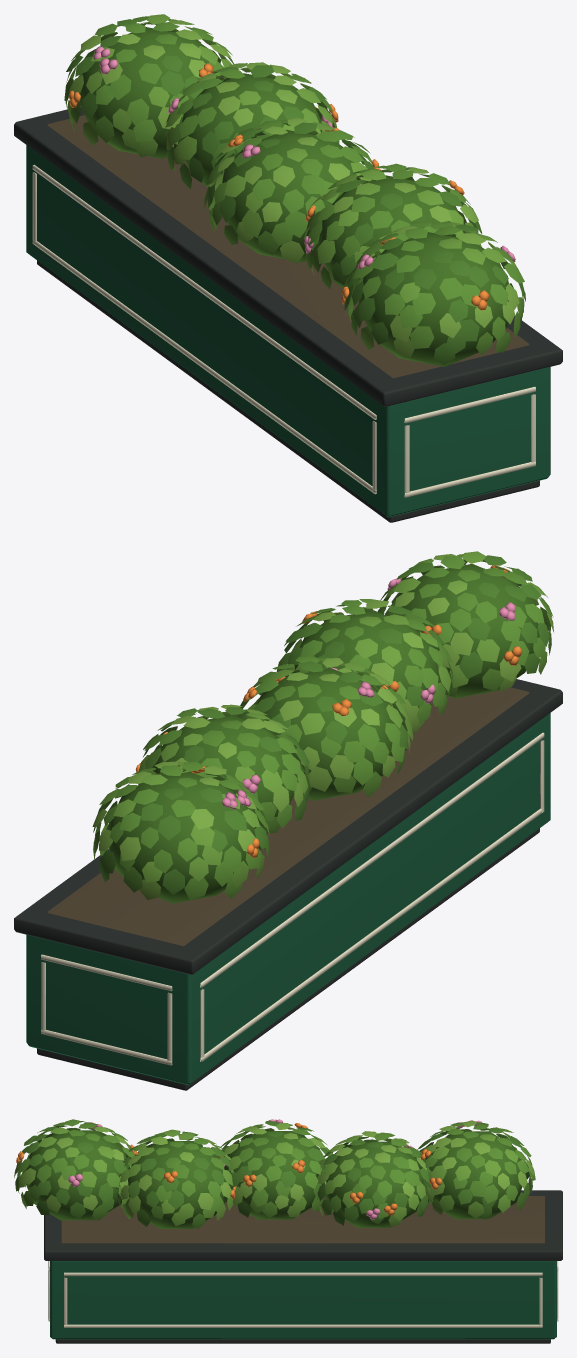
File: edge_planter.glb
3 renders of one model, top to bottom at view 1: azimuth 30°, elevation 25°; view 2: azimuth 150°, elevation 25°; view 3: azimuth 270°, elevation 25°, orthographic. The views are drawn at different scales.
Parts seen in each view (by area): view 1: PlanterBox, PlanterRim, PlanterSoil, Shrub4Core, Shrub2Core, Shrub0Core, Shrub1Core, Shrub3Core, PlanterFeet, PlanterInlayX-1T, PlanterInlayX-1B, PlanterInlayY-1T (+1 smaller); view 2: PlanterBox, PlanterRim, PlanterSoil, Shrub0Core, Shrub2Core, Shrub4Core, Shrub3Core, Shrub1Core, PlanterFeet, PlanterInlayX-1T, PlanterInlayX-1B, PlanterInlayY1T (+1 smaller); view 3: PlanterBox, PlanterSoil, PlanterRim, Shrub4Core, Shrub0Core, Shrub3Core, Shrub1Core, Shrub2Core, PlanterFeet, PlanterInlayX1T, PlanterInlayX1B.
Part boxes in pixels (x1=…): PlanterBox: x1=26, y1=145, x2=550, y2=517; PlanterRim: x1=14, y1=106, x2=562, y2=406; PlanterSoil: x1=47, y1=115, x2=529, y2=378; Shrub4Core: x1=358, y1=232, x2=508, y2=366; Shrub2Core: x1=221, y1=129, x2=367, y2=262; Shrub0Core: x1=80, y1=27, x2=224, y2=158; Shrub1Core: x1=178, y1=73, x2=322, y2=186; Shrub3Core: x1=318, y1=175, x2=466, y2=294; PlanterFeet: x1=37, y1=260, x2=539, y2=522; PlanterInlayX-1T: x1=32, y1=164, x2=376, y2=419; PlanterInlayX-1B: x1=32, y1=240, x2=376, y2=494; PlanterInlayY-1T: x1=404, y1=386, x2=535, y2=423; PlanterBox: x1=26, y1=713, x2=550, y2=1085; PlanterRim: x1=14, y1=679, x2=562, y2=974; PlanterSoil: x1=47, y1=687, x2=529, y2=946; Shrub0Core: x1=106, y1=771, x2=255, y2=903; Shrub2Core: x1=257, y1=668, x2=395, y2=800; Shrub4Core: x1=399, y1=563, x2=539, y2=698; Shrub3Core: x1=290, y1=610, x2=440, y2=708; Shrub1Core: x1=152, y1=715, x2=297, y2=828; PlanterFeet: x1=37, y1=828, x2=539, y2=1090; PlanterInlayX-1T: x1=200, y1=732, x2=544, y2=987; PlanterInlayX-1B: x1=200, y1=808, x2=544, y2=1061; PlanterInlayY1T: x1=41, y1=954, x2=172, y2=991; PlanterBox: x1=50, y1=1261, x2=556, y2=1339; PlanterSoil: x1=61, y1=1196, x2=544, y2=1243; PlanterRim: x1=44, y1=1190, x2=562, y2=1260; Shrub4Core: x1=23, y1=1130, x2=129, y2=1220; Shrub0Core: x1=425, y1=1131, x2=526, y2=1219; Shrub3Core: x1=128, y1=1141, x2=228, y2=1228; Shrub1Core: x1=321, y1=1141, x2=425, y2=1227; Shrub2Core: x1=224, y1=1131, x2=325, y2=1219; PlanterFeet: x1=55, y1=1339, x2=550, y2=1343; PlanterInlayX1T: x1=64, y1=1272, x2=542, y2=1276; PlanterInlayX1B: x1=64, y1=1324, x2=542, y2=1327.
Bounding box in the file's own units: 0.6318 × 0.8623 × 2.31.
